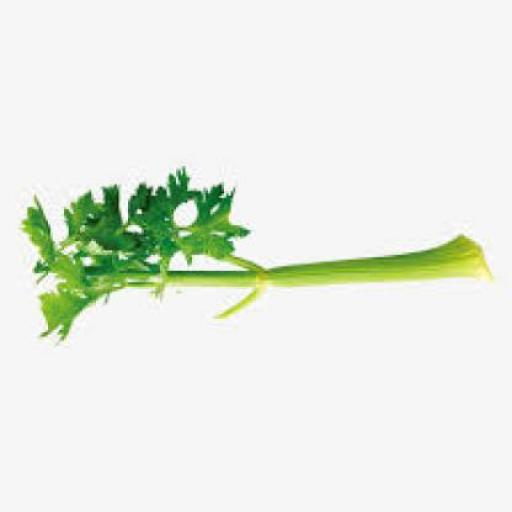biodegradable: (26, 168, 496, 350), (183, 184, 254, 260), (41, 284, 124, 344), (25, 193, 60, 266)
